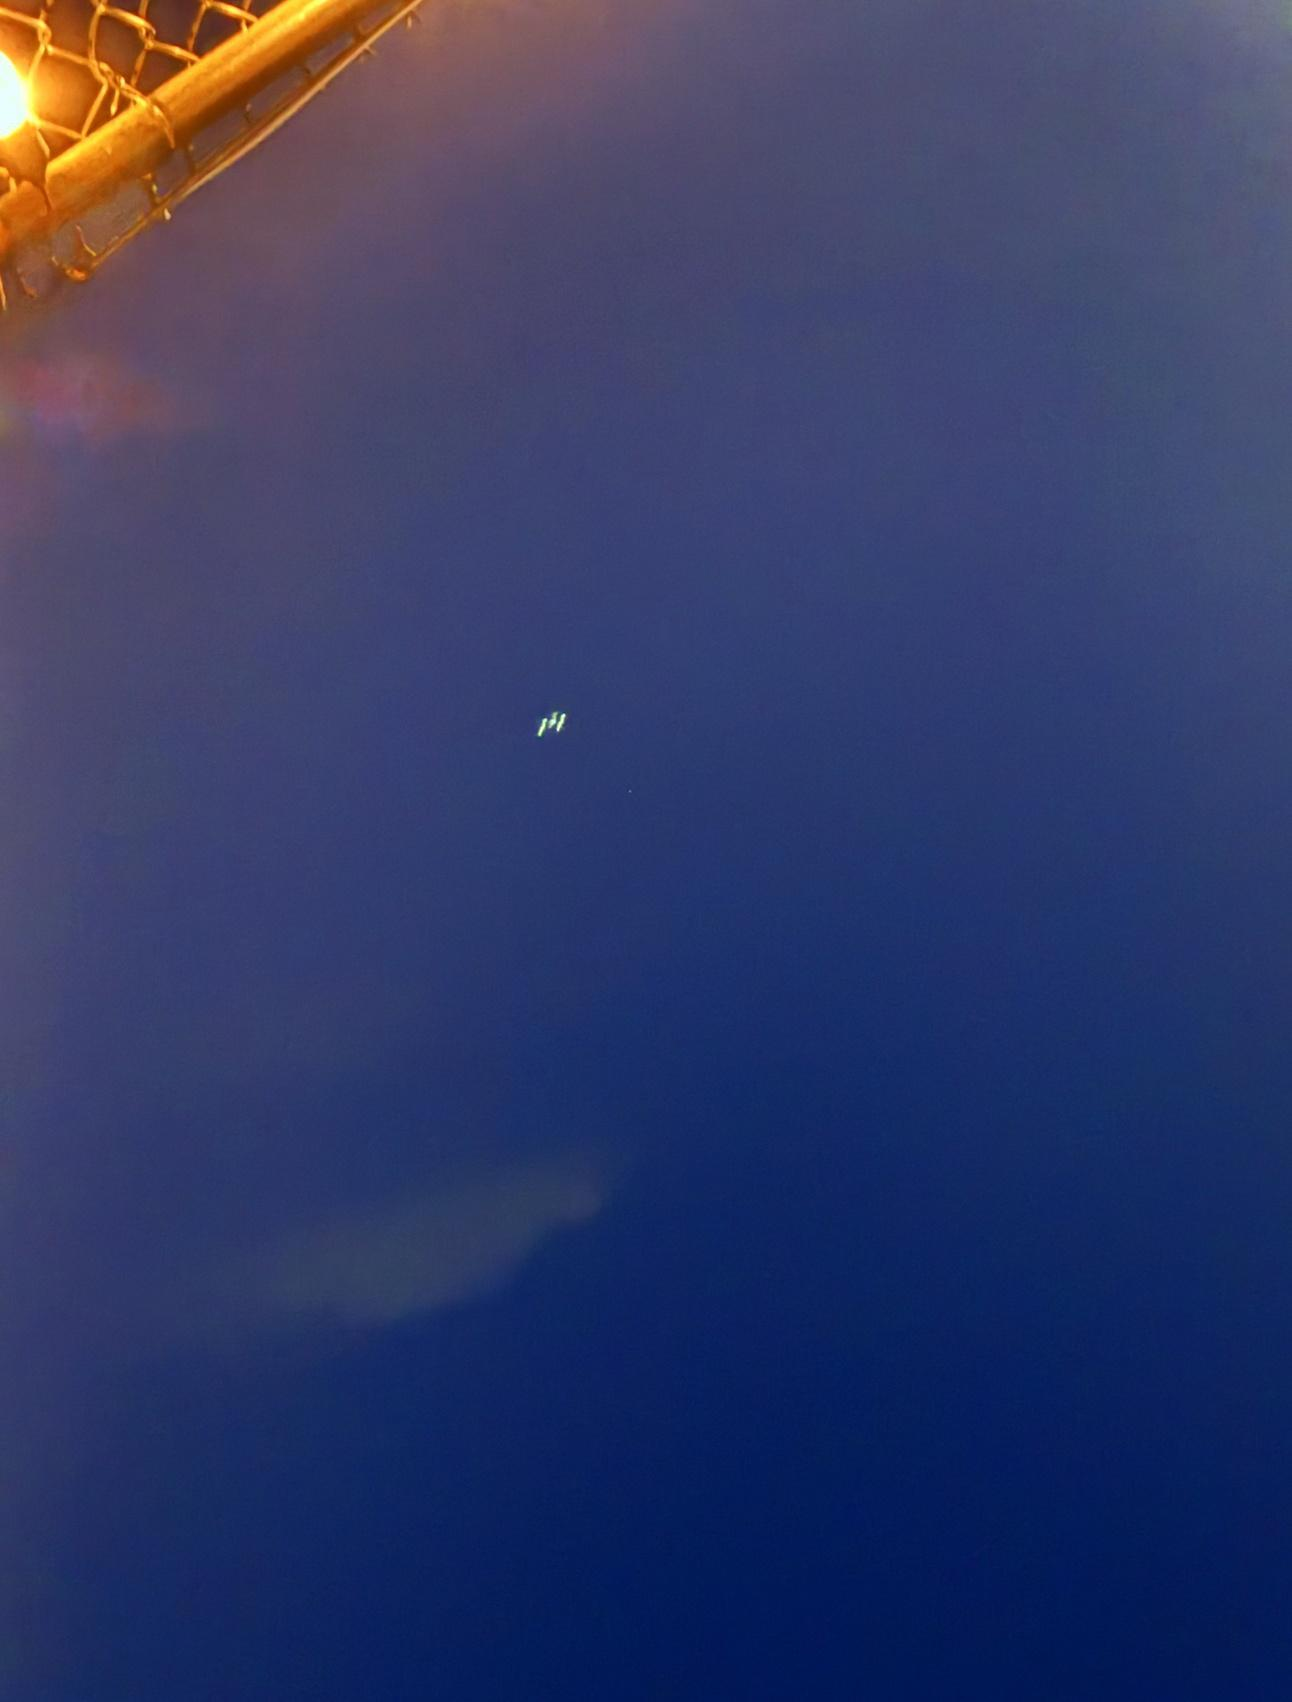Plane: (521, 699, 588, 756)
